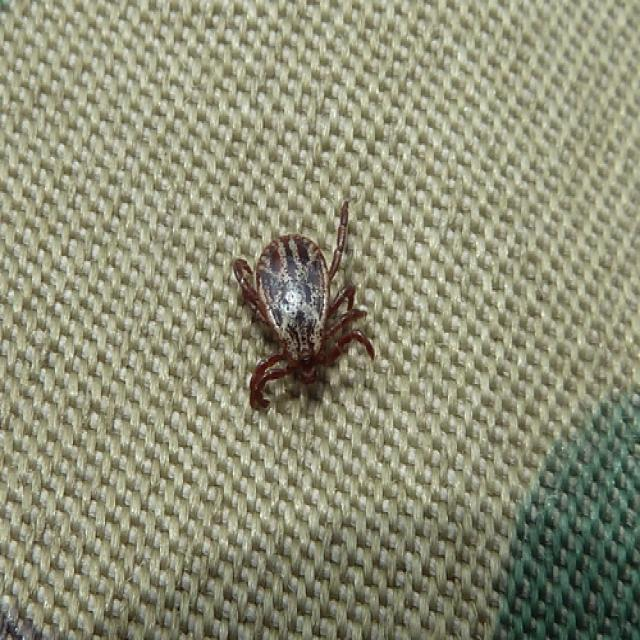Dermacentor Reticulatus-M: (233, 201, 376, 410)
